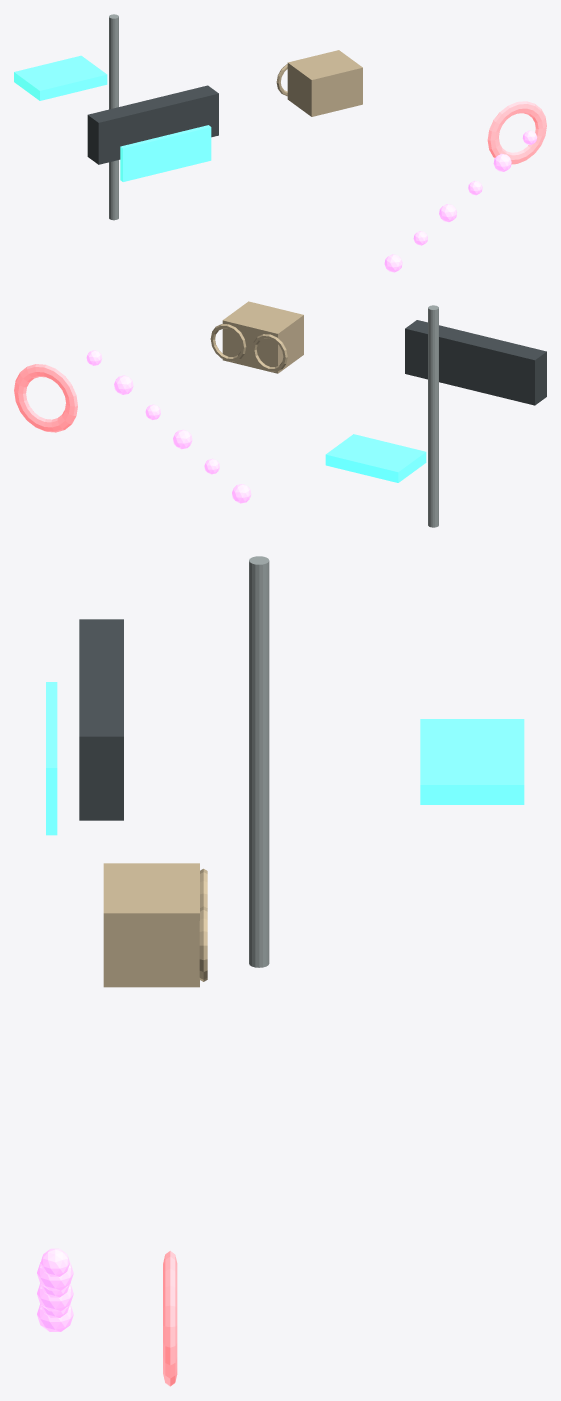
File: greed_props.glb
The picture shows the model from 3 angles, top to bottom: view 1: azimuth 30°, elevation 25°; view 2: azimuth 150°, elevation 25°; view 3: azimuth 270°, elevation 25°; orthographic projection. The views are drawn at different scales.
Visible parts, largest first — view 1: Greed_BusStop_Bench, Greed_FullBag, Greed_SafeExit_Plaque, Greed_BusStop_Sign, Greed_Rival_Neckerchief, Greed_BusStop_Pole; view 2: Greed_BusStop_Bench, Greed_FullBag, Greed_BusStop_Sign, Greed_BusStop_Pole, Greed_Rival_Neckerchief, Greed_Bag_Handle.001, Greed_Bag_Handle, Greed_ScentTrail_03, Greed_ScentTrail_01, Greed_ScentTrail_05; view 3: Greed_FullBag, Greed_BusStop_Bench, Greed_BusStop_Sign, Greed_BusStop_Pole, Greed_Rival_Neckerchief, Greed_SafeExit_Plaque.
Boxes of the visible parts, x1,y1,x2,y2 form: Greed_BusStop_Bench: (87,85,218,164); Greed_FullBag: (287,50,362,116); Greed_SafeExit_Plaque: (120,125,211,181); Greed_BusStop_Sign: (14,55,107,100); Greed_Rival_Neckerchief: (487,101,546,164); Greed_BusStop_Pole: (109,14,118,220); Greed_BusStop_Bench: (405,320,546,405); Greed_FullBag: (222,301,303,373); Greed_BusStop_Sign: (325,434,426,482); Greed_BusStop_Pole: (428,305,438,527); Greed_Rival_Neckerchief: (14,364,77,432); Greed_Bag_Handle.001: (210,324,246,361); Greed_Bag_Handle: (252,334,287,371); Greed_ScentTrail_03: (173,429,192,449); Greed_ScentTrail_01: (114,375,133,394); Greed_ScentTrail_05: (232,484,251,503); Greed_FullBag: (103,863,199,987); Greed_BusStop_Bench: (79,619,123,820); Greed_BusStop_Sign: (420,719,524,804); Greed_BusStop_Pole: (249,556,269,967); Greed_Rival_Neckerchief: (163,1251,177,1386); Greed_SafeExit_Plaque: (46,682,57,835).
Size of the model in its own units: 5.87 by 3.26 by 2.63.
